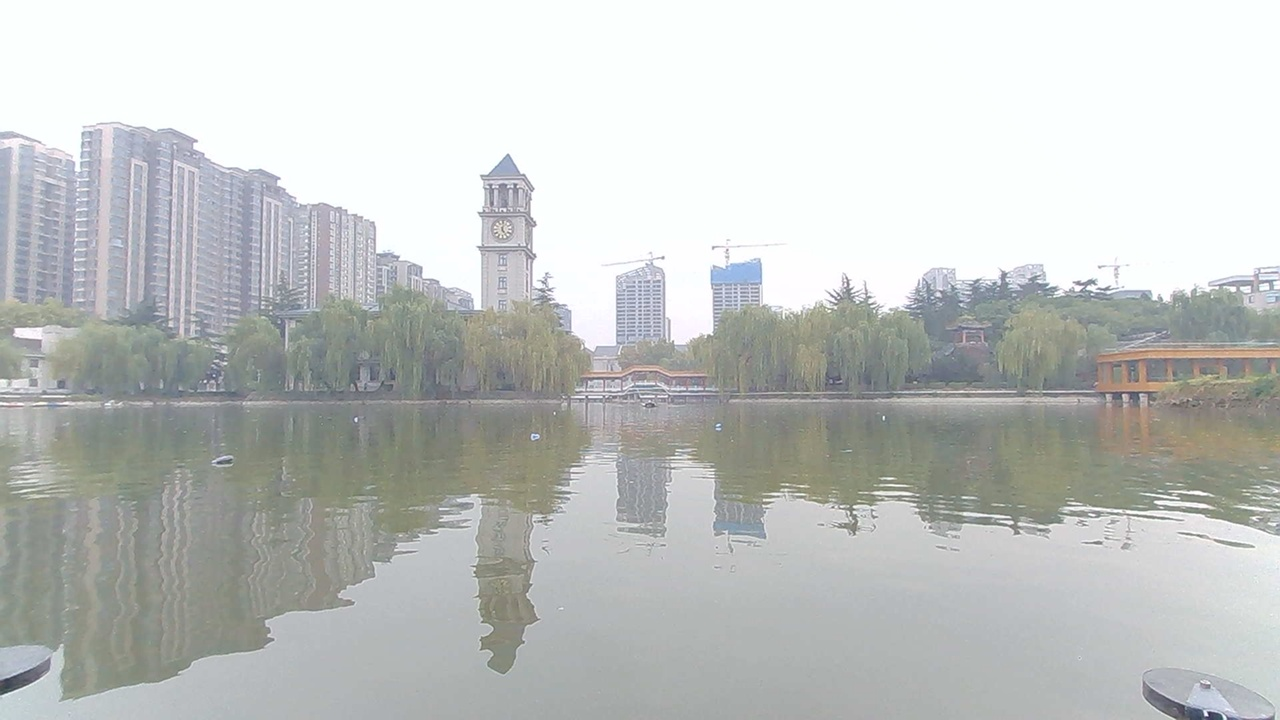bottle: (208, 448, 245, 477), (346, 403, 383, 432), (706, 410, 740, 437), (872, 402, 902, 428), (520, 432, 557, 453), (543, 406, 572, 428)
